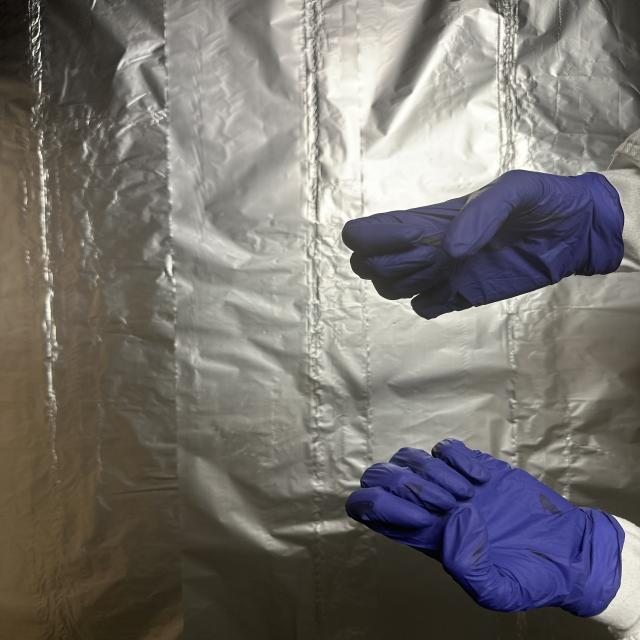gloves_contaminated: (346, 439, 624, 617), (342, 170, 624, 319)
